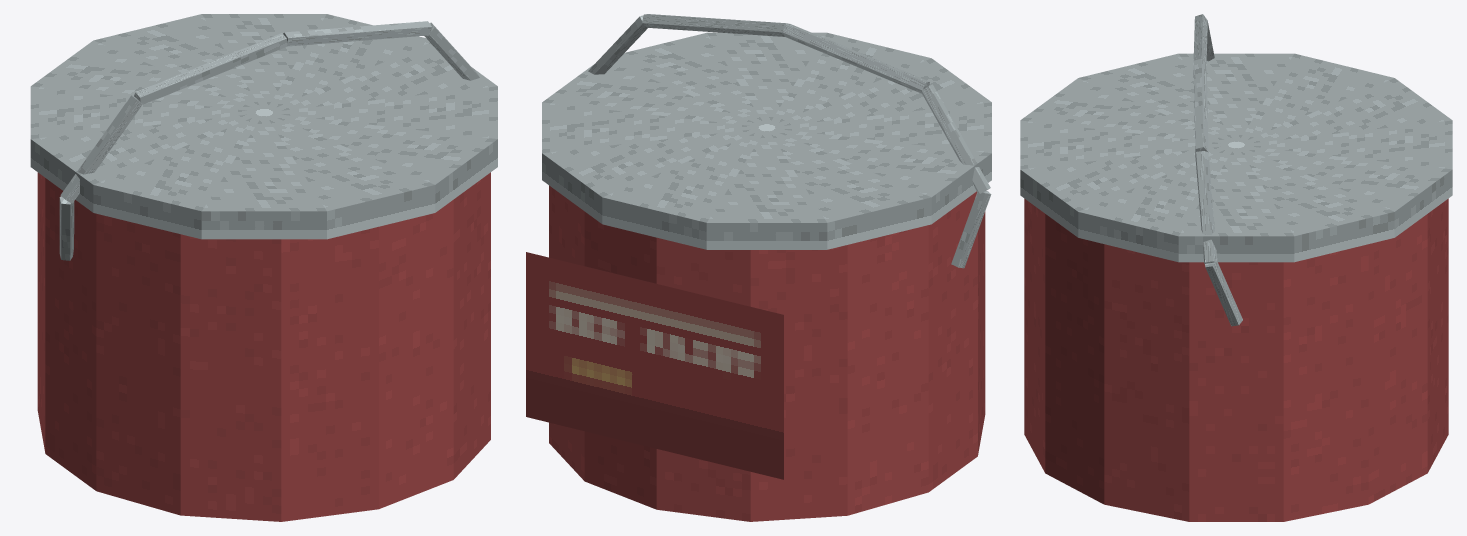
File: paint_red.glb
3 renders of one model, left to right at view 1: azimuth 30°, elevation 25°; view 2: azimuth 150°, elevation 25°; view 3: azimuth 270°, elevation 25°, orthographic. The views are drawn at different scales.
Parts seen in each view (by area): view 1: block_body, block_paint bucket lid, block_wire carry bail 2, block_wire carry bail 3, block_wire carry bail 1, block_wire carry bail 4, block_wire carry bail 0; view 2: block_body, block_paint bucket lid, block_paint label, block_wire carry bail 2, block_wire carry bail 3, block_wire carry bail 1, block_wire carry bail 0, block_wire carry bail 4; view 3: block_body, block_paint bucket lid, block_wire carry bail 4, block_wire carry bail 3, block_wire carry bail 5, block_wire carry bail 2.
Part boxes in pixels (box(x1,y1,x2,y2)): block_body: box(37, 172, 490, 521); block_paint bucket lid: box(30, 14, 497, 239); block_wire carry bail 2: box(134, 33, 287, 104); block_wire carry bail 3: box(283, 21, 431, 46); block_wire carry bail 1: box(60, 95, 142, 203); block_wire carry bail 4: box(424, 22, 479, 80); block_wire carry bail 0: box(59, 196, 74, 260); block_body: box(549, 185, 985, 521); block_paint bucket lid: box(542, 32, 991, 249); block_paint label: box(526, 252, 783, 479); block_wire carry bail 2: box(782, 23, 929, 93); block_wire carry bail 3: box(642, 14, 788, 36); block_wire carry bail 1: box(921, 84, 990, 193); block_wire carry bail 0: box(951, 191, 991, 268); block_wire carry bail 4: box(588, 15, 647, 74); block_body: box(1024, 198, 1448, 521); block_paint bucket lid: box(1020, 53, 1452, 262); block_wire carry bail 4: box(1195, 151, 1217, 264); block_wire carry bail 3: box(1193, 58, 1208, 152); block_wire carry bail 5: box(1205, 260, 1242, 326); block_wire carry bail 2: box(1193, 14, 1207, 63).
Size of the model in its own units: 0.2967 by 0.2663 by 0.276.
Materials: 2 (2 with a texture image).
